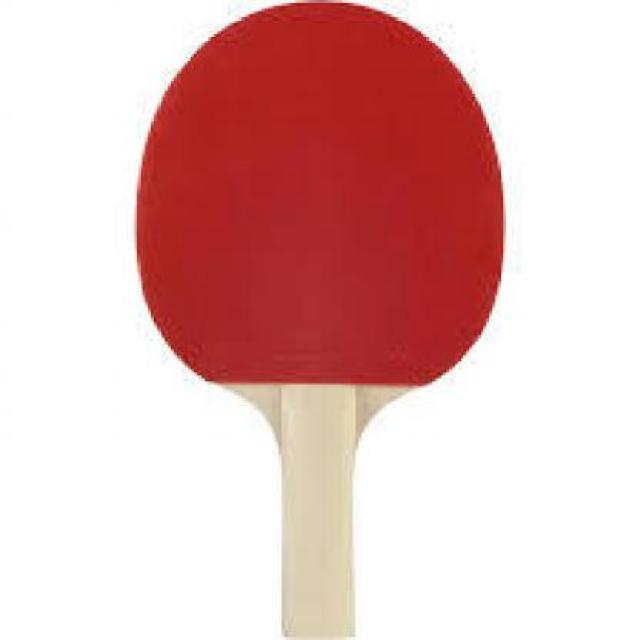table_tennis_racket: (131, 0, 506, 428)
